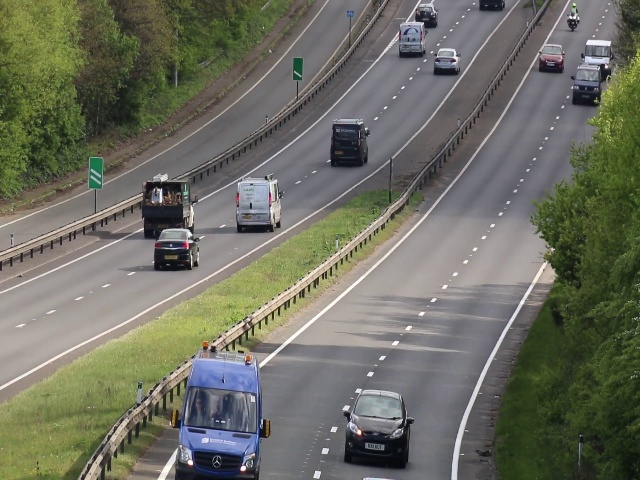car: (177, 354, 262, 480), (346, 389, 410, 467), (235, 179, 283, 228), (144, 179, 194, 223), (153, 228, 197, 269), (332, 119, 368, 166), (574, 69, 601, 104), (400, 22, 426, 56), (433, 47, 460, 74), (538, 42, 564, 70), (586, 44, 611, 63), (414, 2, 436, 23)
